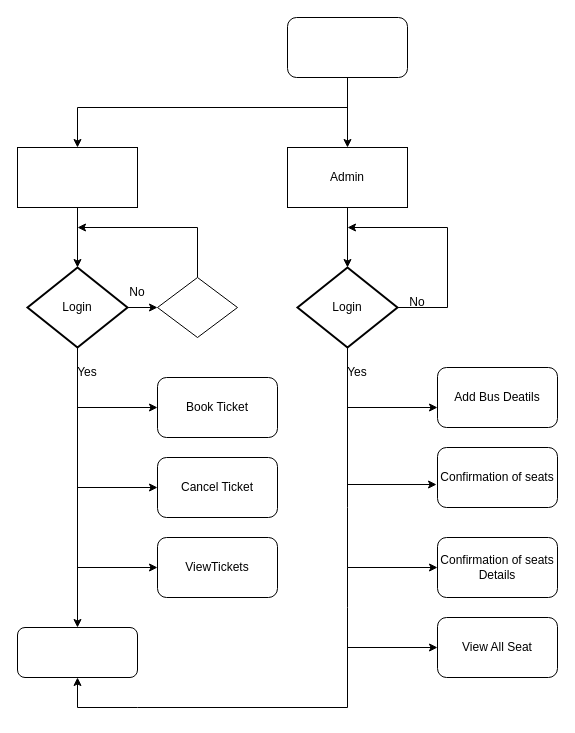
Some shapes in this 575 by 733 pixel diagram are drawn without their labels. Here are the shapes that lost their labels. From the top down, the box of each, then its label:
(286, 16, 408, 78): Start
(16, 146, 138, 208): Customer
(156, 276, 238, 338): Register
(16, 626, 138, 678): Stop
